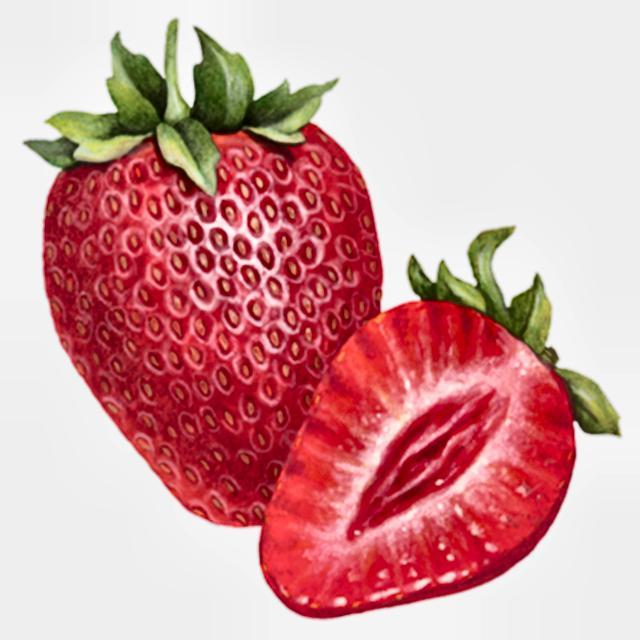strawberry: (28, 21, 381, 526), (260, 228, 620, 617)
